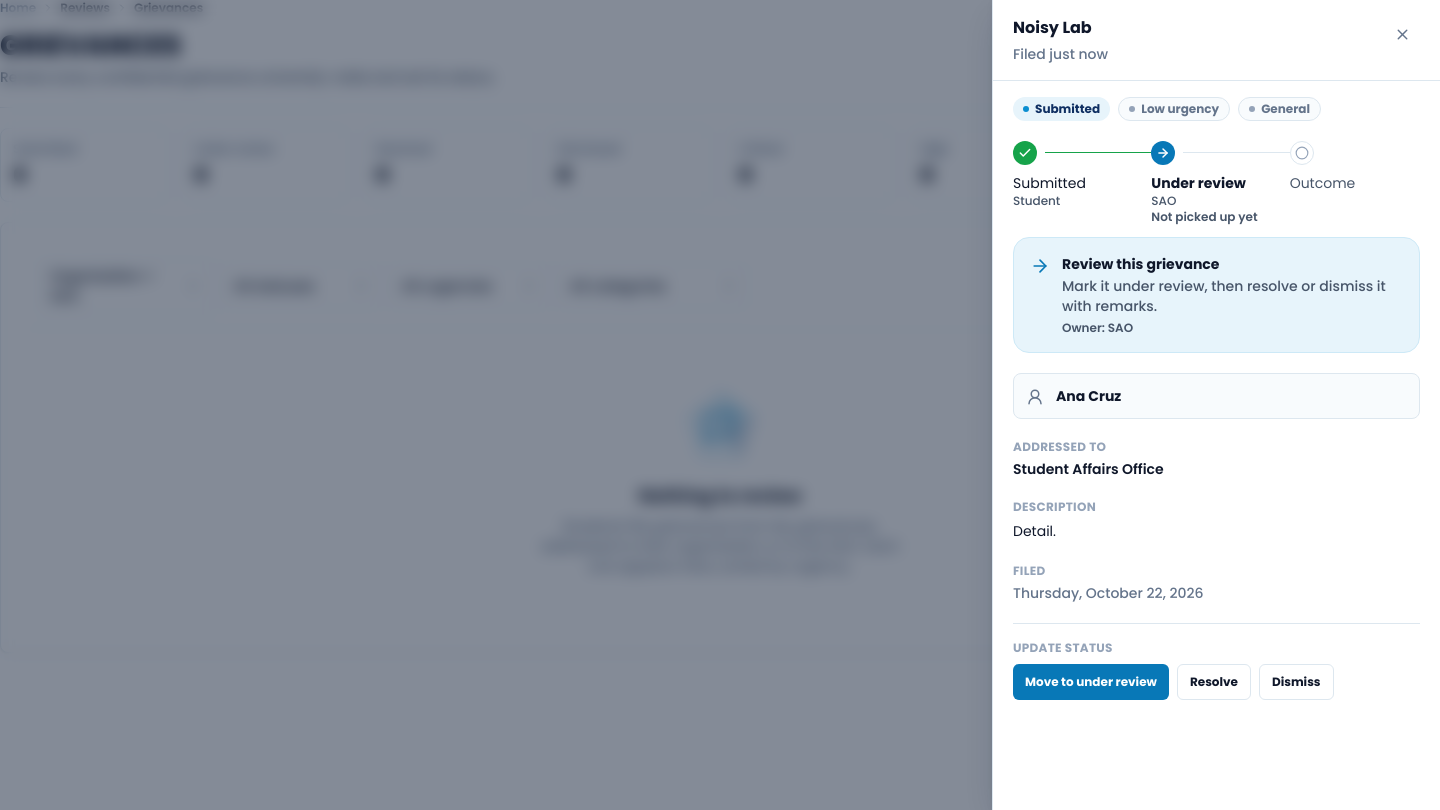
it: grievance lists and details › says why a one tap move to under review failed, inside the drawer
This screenshot has width=1440, height=810.
Click the button "Move to under review": (1091, 682) [1013,664,1169,700]
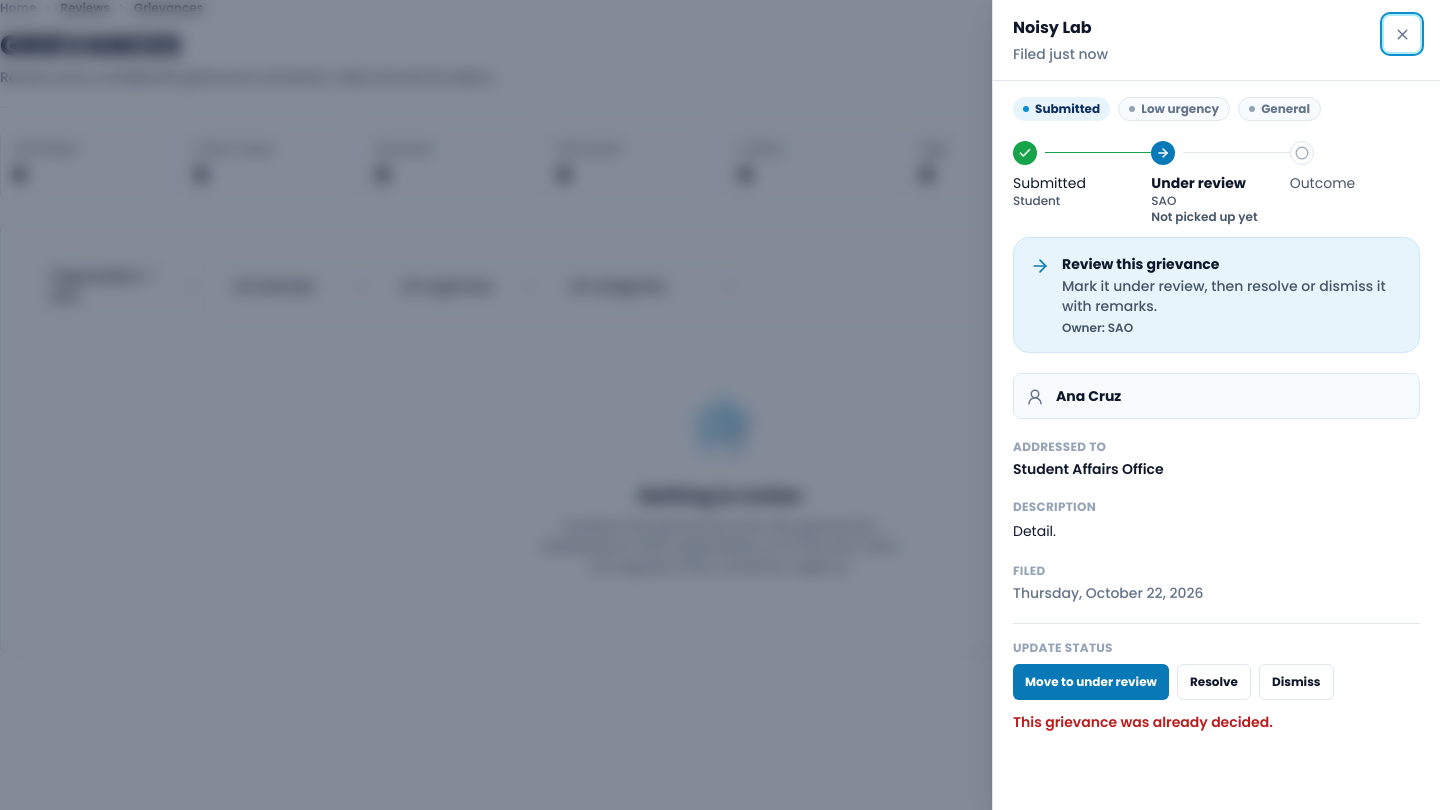
Expected: the message reads "This grievance was already decided.", [1013,712,1273,732]
